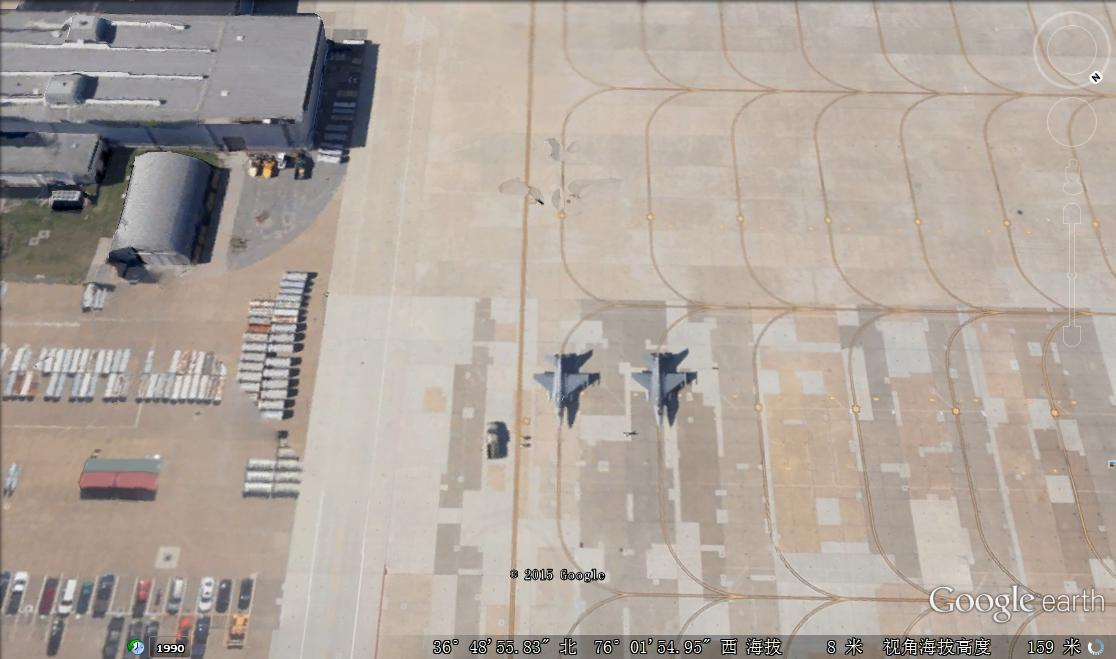F-16: (626, 347, 695, 429), (527, 349, 597, 426)
